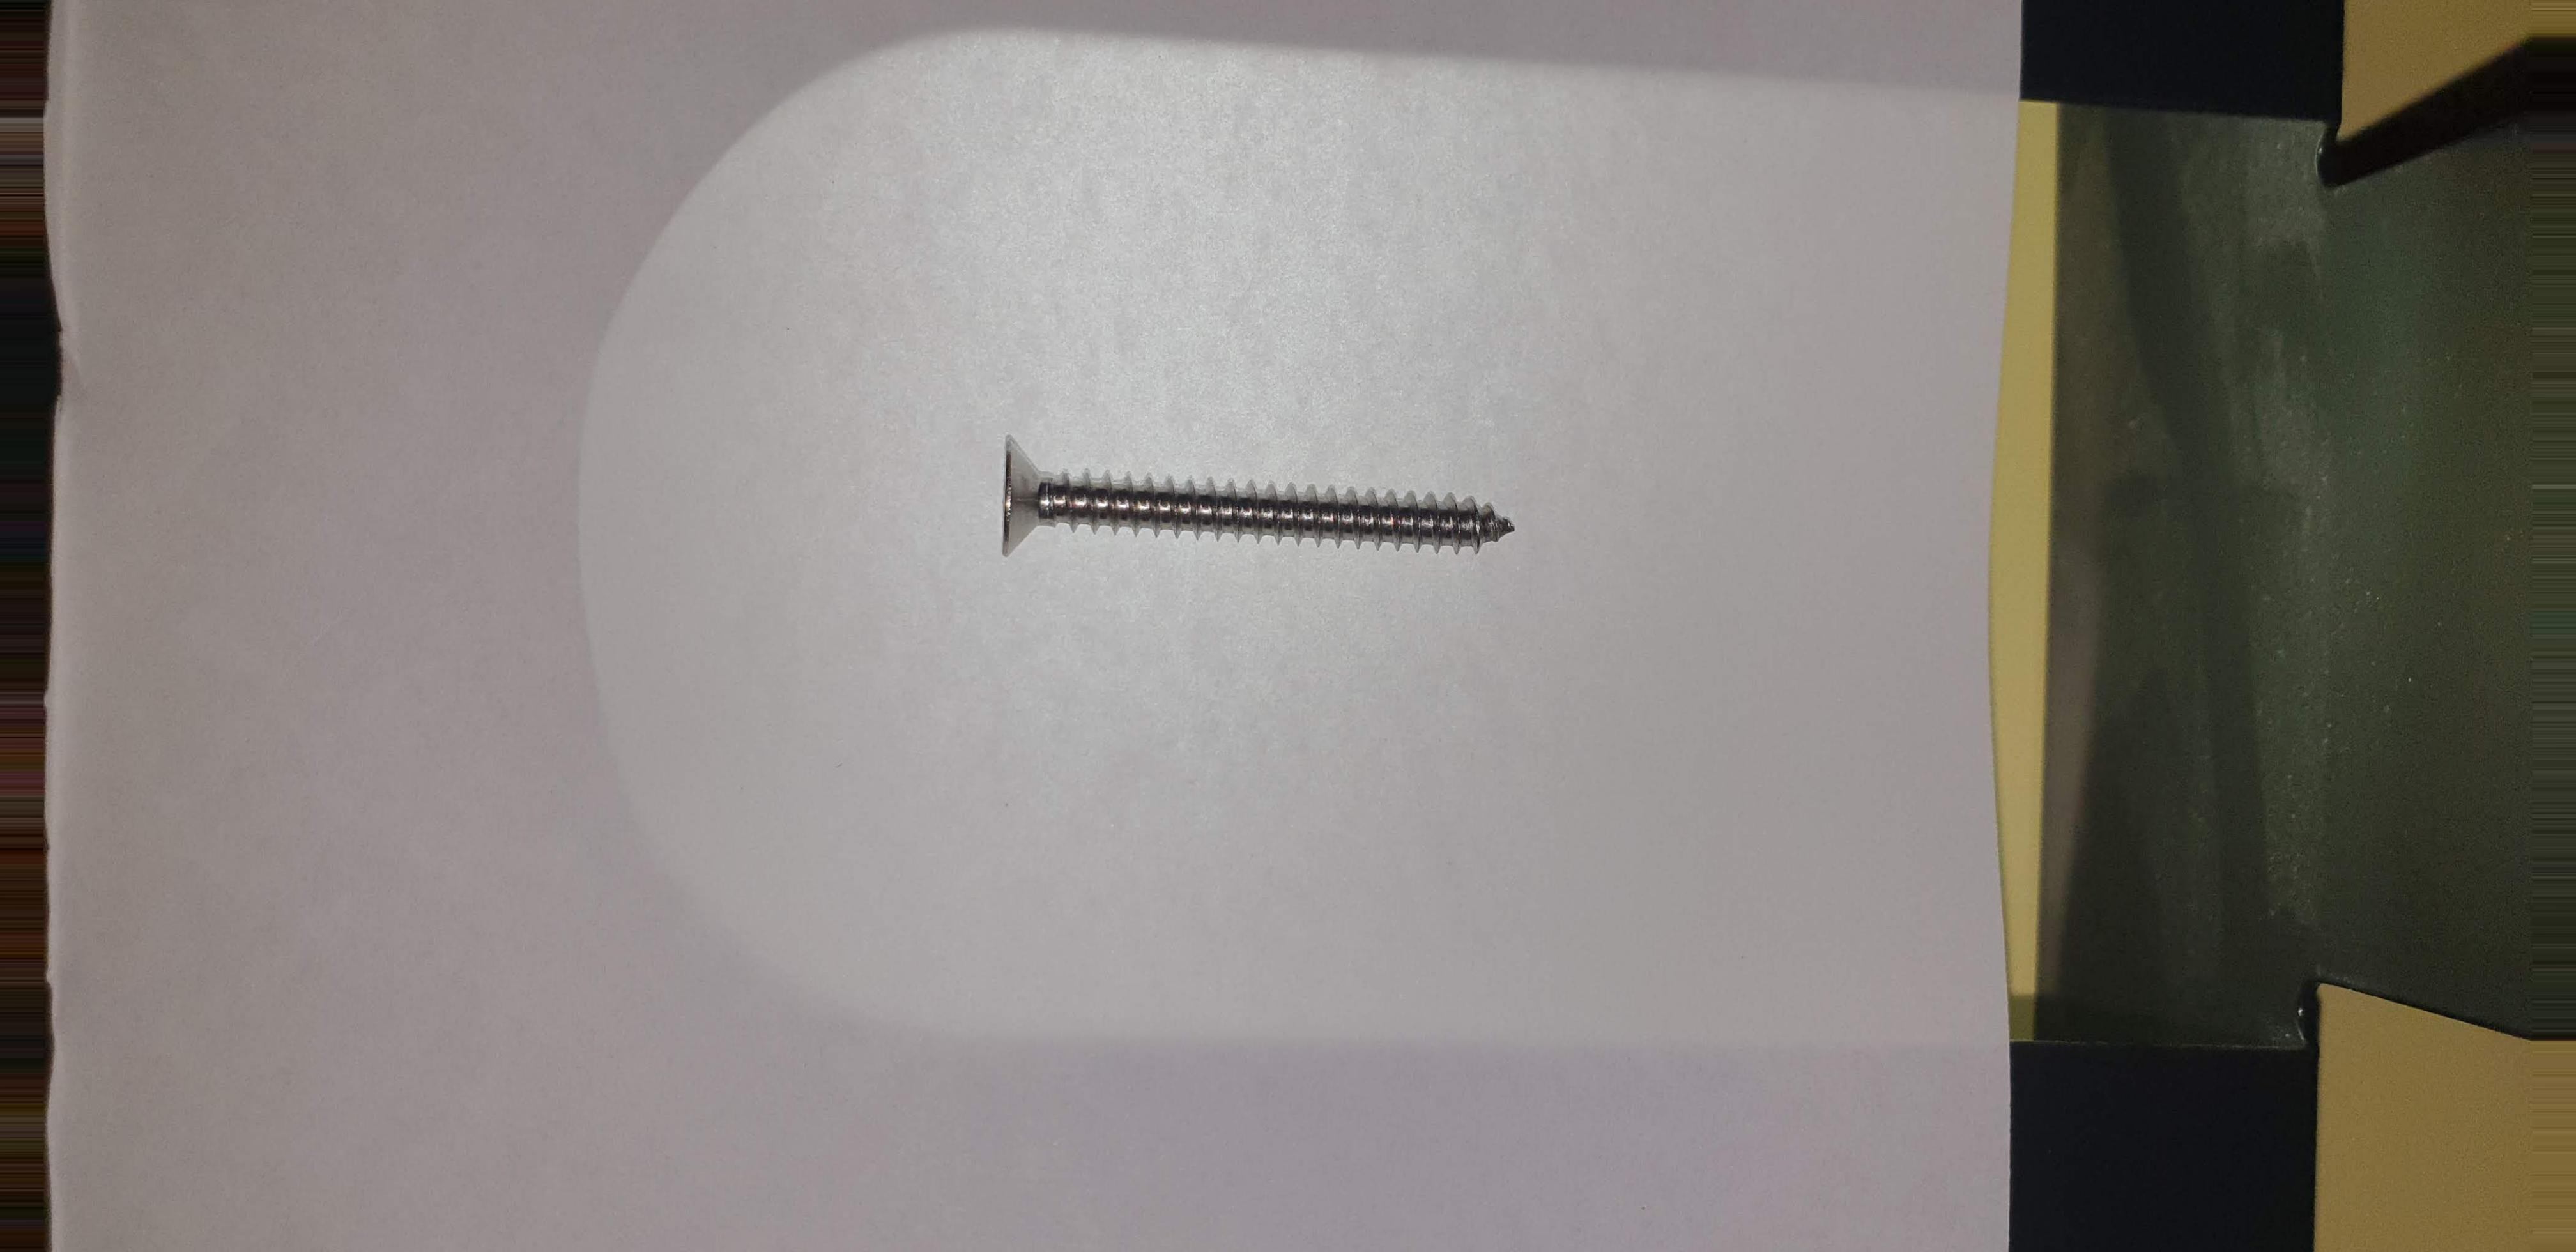fastener: (902, 352, 1626, 641)
